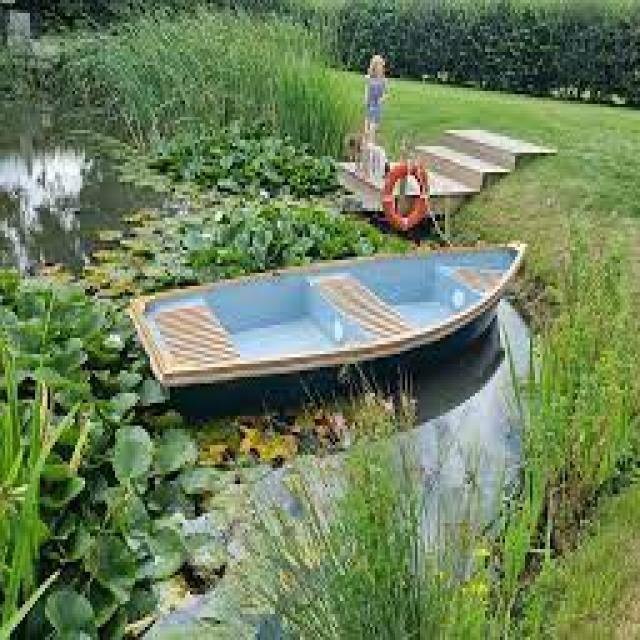ship2: (128, 243, 526, 396)
